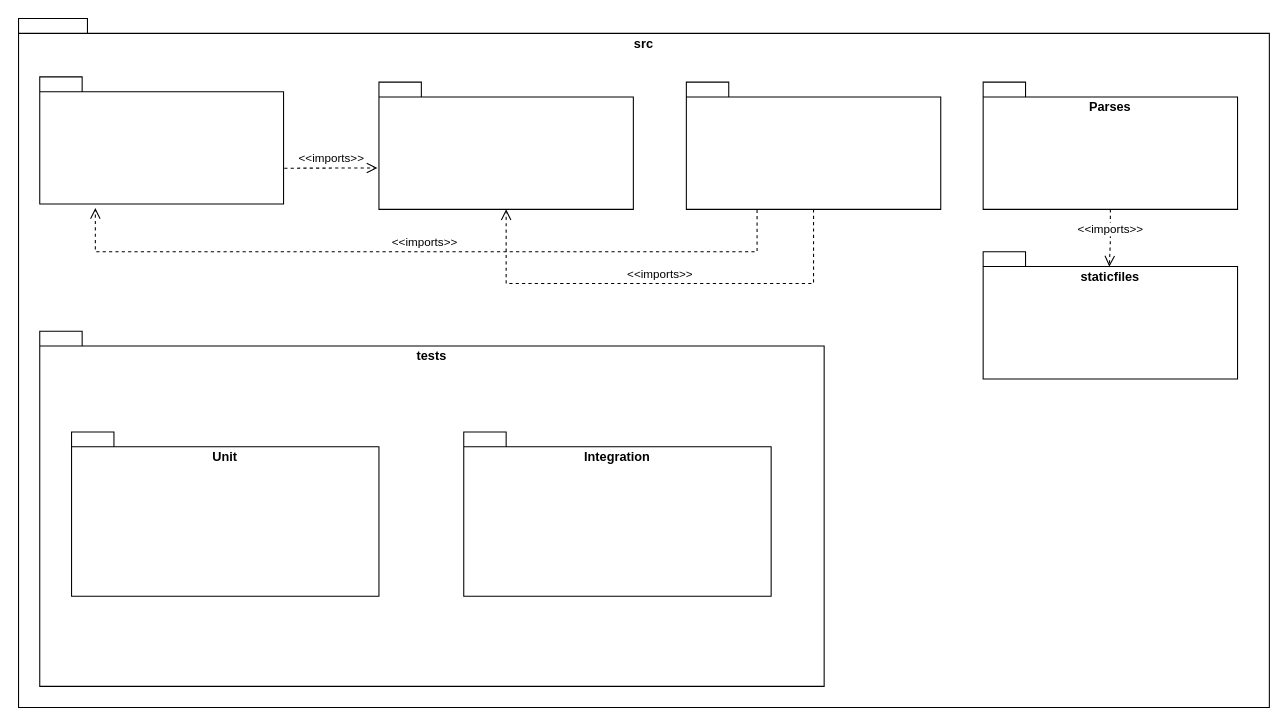
This 1288x726 diagram has some shape labels left out. Each missing label, with the centre of its shape:
"core" goes at point 161,140.
"Resources" goes at point 813,145.
"util" goes at point 505,145.
